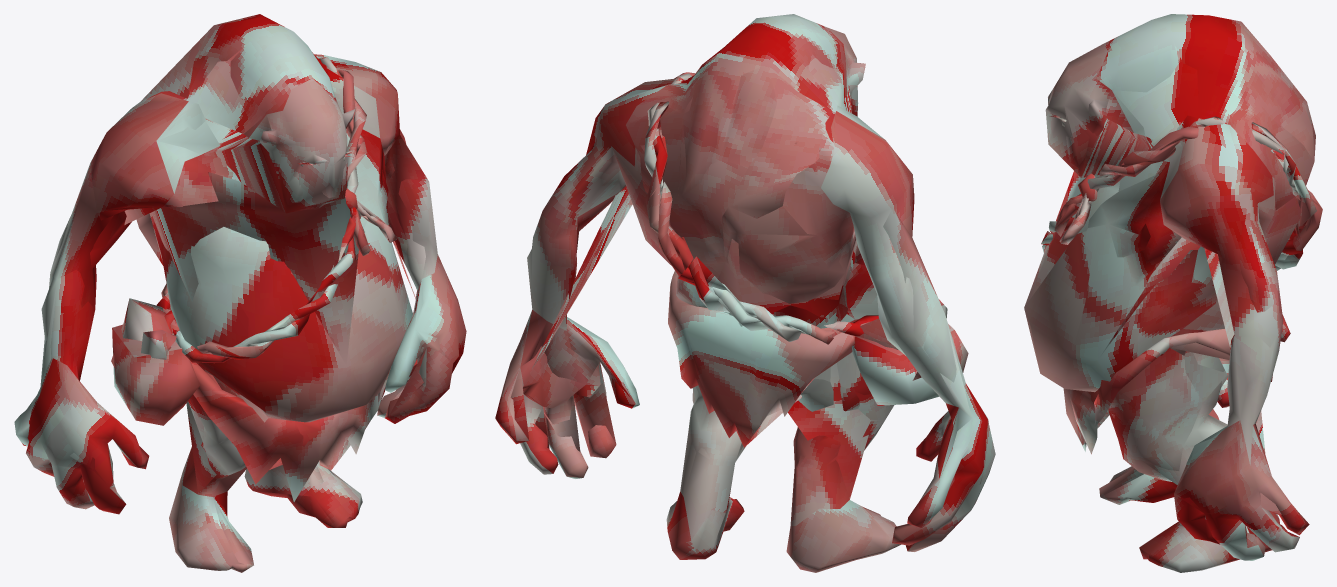
Rendered from item_squishy_gold_giantthrower.glb.
The picture shows the model from 3 angles, left to right: view 1: azimuth 30°, elevation 25°; view 2: azimuth 150°, elevation 25°; view 3: azimuth 270°, elevation 25°; orthographic projection. The views are drawn at different scales.
Visible parts, largest first — view 1: toy_giantthrower; view 2: toy_giantthrower; view 3: toy_giantthrower.
Part boxes in pixels (x1,y1,x2,y2): toy_giantthrower: (14, 14, 466, 572); toy_giantthrower: (495, 14, 995, 572); toy_giantthrower: (1024, 14, 1322, 572).
Size of the model in its own units: 0.3359 by 0.3656 by 0.1931.
Materials: 1 (1 with a texture image).
